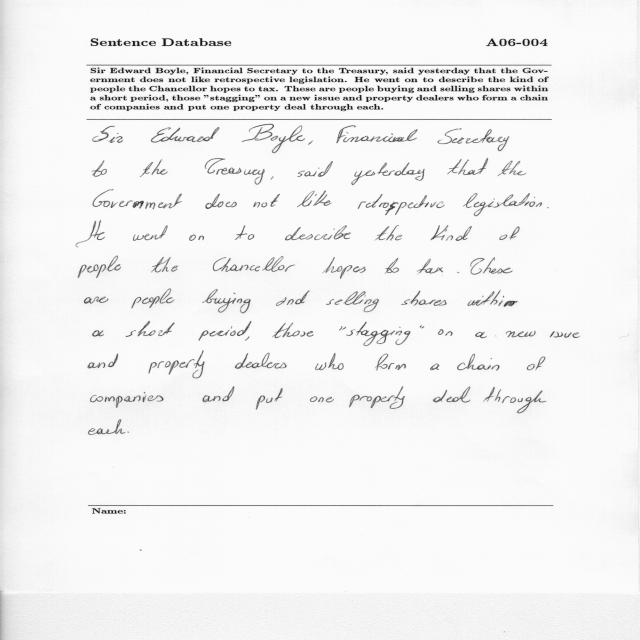word: (242, 124, 305, 153), (463, 193, 542, 216), (358, 194, 444, 215), (93, 190, 182, 210), (351, 163, 425, 186), (438, 129, 510, 152), (483, 387, 546, 413), (205, 158, 265, 185), (346, 322, 411, 346), (149, 351, 205, 378), (336, 126, 418, 144), (213, 256, 295, 272), (349, 386, 405, 409), (202, 289, 251, 313), (91, 392, 164, 408), (326, 292, 379, 313), (151, 127, 219, 143), (199, 321, 252, 341), (285, 226, 351, 241), (322, 257, 366, 279), (78, 256, 121, 278), (235, 352, 287, 369), (468, 290, 518, 307), (132, 289, 175, 308), (126, 321, 175, 337), (76, 221, 105, 248), (470, 257, 513, 275), (401, 290, 447, 306), (457, 354, 500, 371), (447, 158, 488, 175), (431, 225, 472, 241), (272, 323, 314, 338), (297, 191, 332, 208), (256, 388, 283, 410), (433, 387, 470, 403), (89, 419, 126, 435), (297, 161, 333, 177), (133, 225, 168, 241), (276, 290, 310, 306), (375, 354, 406, 371), (93, 126, 123, 143), (140, 159, 168, 177), (315, 353, 344, 370), (205, 194, 237, 209), (203, 387, 235, 402), (88, 354, 118, 369), (498, 161, 527, 176), (375, 225, 402, 241), (417, 259, 443, 275), (151, 257, 178, 272), (253, 194, 280, 207), (499, 226, 520, 240), (235, 225, 254, 240), (92, 160, 107, 177), (527, 357, 545, 371), (385, 258, 399, 274), (550, 331, 580, 338), (506, 331, 536, 337), (85, 297, 109, 304), (310, 397, 334, 403), (189, 234, 204, 241), (438, 329, 453, 336), (93, 330, 104, 337), (475, 332, 487, 338), (430, 364, 440, 370), (339, 326, 346, 331), (245, 336, 249, 341), (308, 141, 312, 145), (271, 176, 274, 180), (420, 325, 424, 328), (547, 207, 549, 209), (457, 272, 460, 273), (127, 432, 129, 433)
